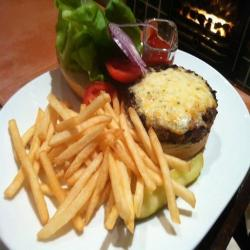burger: (125, 59, 221, 172)
fries: (11, 95, 181, 230)
ketchup: (135, 15, 186, 76)
salad: (53, 3, 140, 77)
